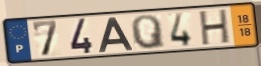4: (68, 17, 94, 56), (168, 11, 195, 48)
7: (31, 19, 60, 58)
A: (97, 16, 135, 54)
H: (198, 7, 231, 47)
Q: (129, 13, 167, 51)
